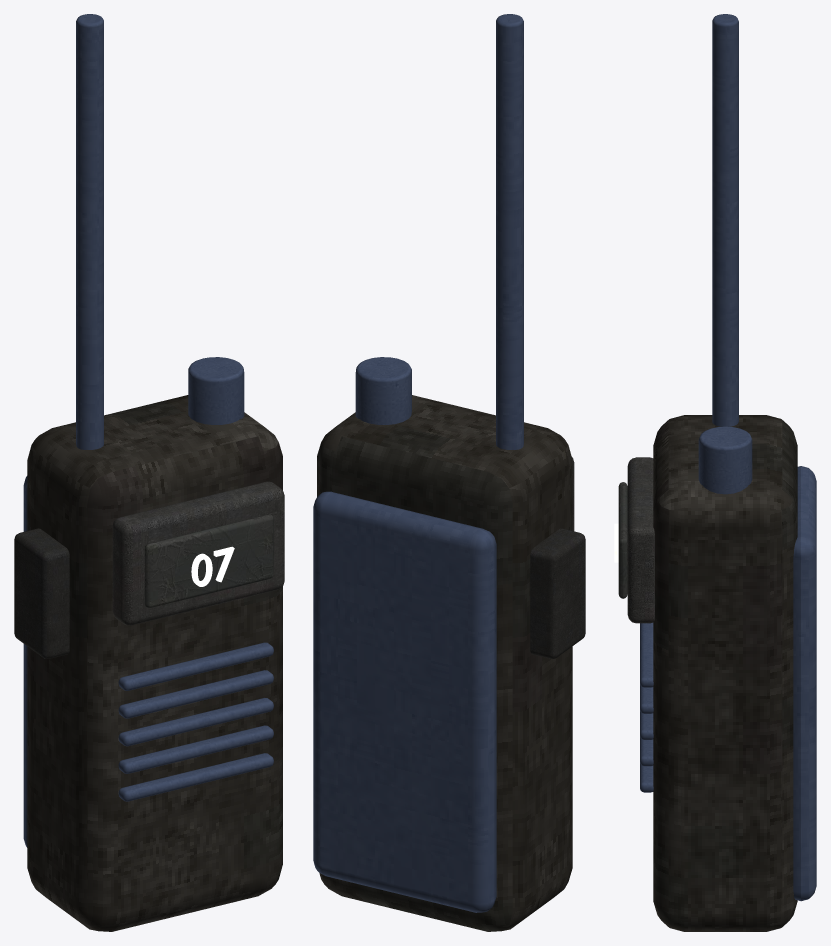
The model's file is shop-walkie-talkie.glb.
The picture shows the model from 3 angles, left to right: view 1: azimuth 30°, elevation 25°; view 2: azimuth 150°, elevation 25°; view 3: azimuth 270°, elevation 25°; orthographic projection. The views are drawn at different scales.
Parts seen in each view (by area): view 1: Radio body, Antenna, Display bezel, Amber LCD, PTT button, Volume knob, Speaker slit, Speaker slit.002, Speaker slit.004, Speaker slit.001, Speaker slit.003, Rubber back (+1 smaller); view 2: Rubber back, Radio body, Antenna, PTT button, Volume knob; view 3: Radio body, Antenna, Rubber back, Display bezel, Volume knob, Amber LCD, Speaker slit.004.
Part boxes in pixels (x1=…): Radio body: x1=27, y1=395, x2=282, y2=931; Antenna: x1=76, y1=14, x2=103, y2=449; Display bezel: x1=112, y1=481, x2=284, y2=625; Amber LCD: x1=144, y1=514, x2=273, y2=607; PTT button: x1=14, y1=528, x2=69, y2=658; Volume knob: x1=188, y1=357, x2=244, y2=424; Speaker slit: x1=118, y1=753, x2=273, y2=801; Speaker slit.002: x1=118, y1=697, x2=273, y2=746; Speaker slit.004: x1=118, y1=642, x2=273, y2=690; Speaker slit.001: x1=118, y1=725, x2=273, y2=773; Speaker slit.003: x1=118, y1=670, x2=273, y2=718; Rubber back: x1=23, y1=476, x2=27, y2=847; Rubber back: x1=313, y1=491, x2=496, y2=912; Radio body: x1=317, y1=395, x2=572, y2=931; Antenna: x1=496, y1=14, x2=523, y2=449; PTT button: x1=530, y1=528, x2=585, y2=658; Volume knob: x1=355, y1=357, x2=411, y2=424; Radio body: x1=653, y1=415, x2=797, y2=931; Antenna: x1=712, y1=14, x2=738, y2=426; Rubber back: x1=793, y1=466, x2=816, y2=901; Display bezel: x1=627, y1=457, x2=654, y2=623; Volume knob: x1=698, y1=426, x2=752, y2=494; Amber LCD: x1=618, y1=482, x2=627, y2=598; Speaker slit.004: x1=640, y1=622, x2=653, y2=687.
Size of the model in its own units: 0.1125 by 0.42 by 0.091.
6 materials, 6 textured.
